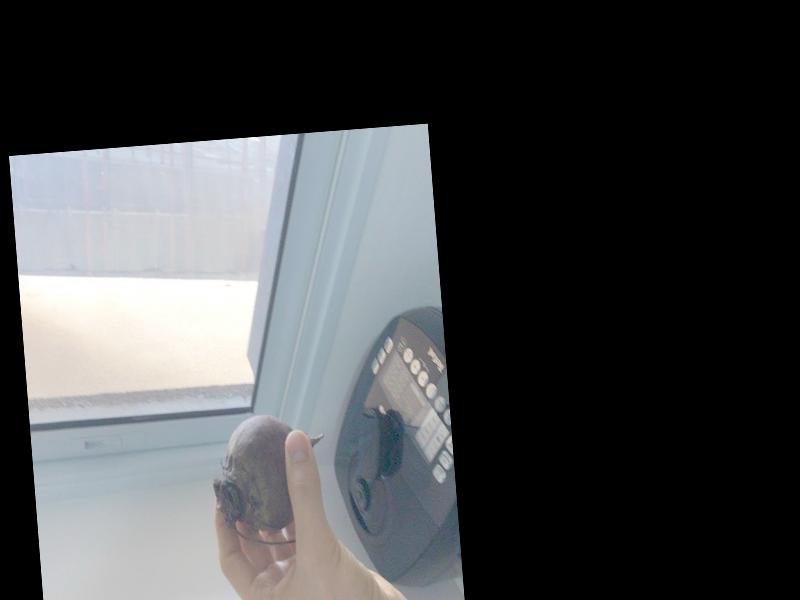Beet: (208, 410, 331, 547)
